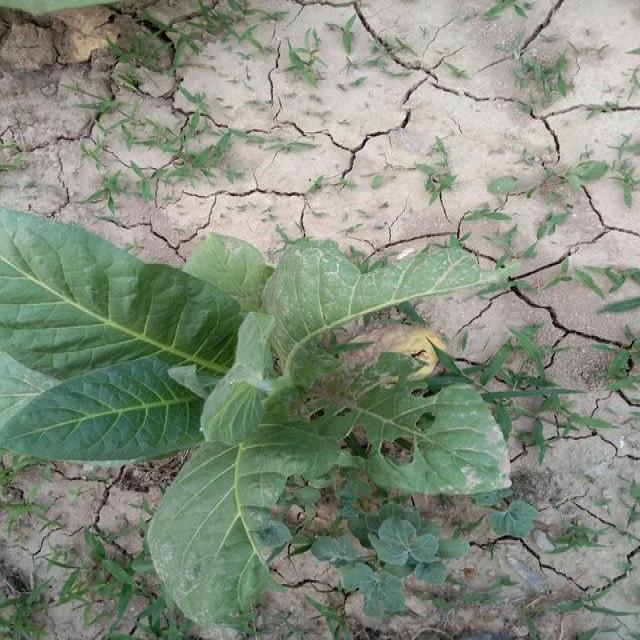crop: (4, 167, 534, 589)
